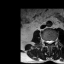CCS_stenosis: (48, 38, 50, 46)
LFS_normal: (53, 38, 55, 44)
LLS_normal: (50, 38, 53, 45)
RFS_normal: (44, 37, 46, 44)
RLS_normal: (46, 38, 48, 45)
